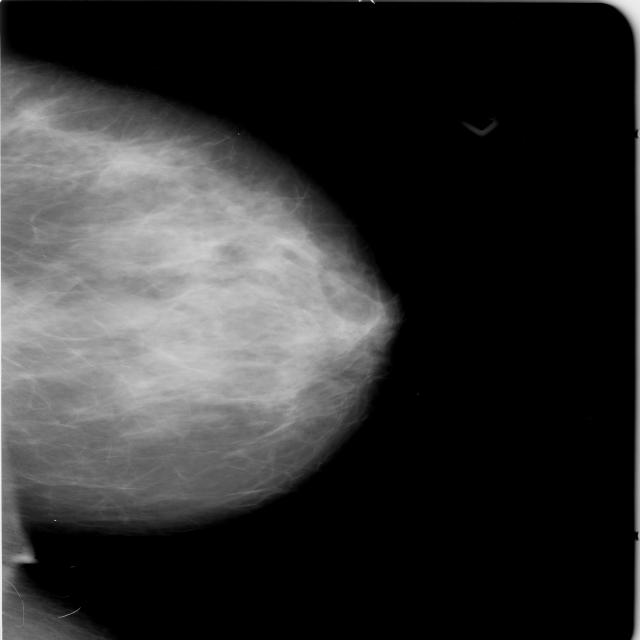normal: (0, 46, 405, 532)
